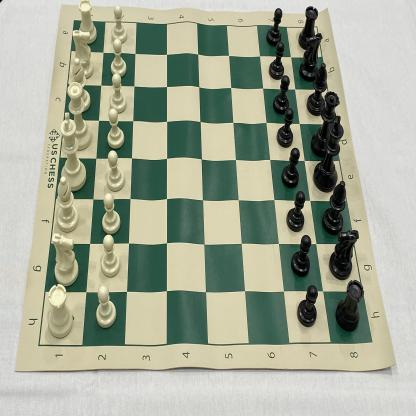black-bishop: (322, 181, 347, 234), (306, 63, 328, 116)
black-king: (313, 115, 346, 191)
black-pawn: (297, 281, 318, 329), (292, 233, 311, 277), (276, 104, 294, 149), (287, 187, 305, 231), (282, 145, 300, 187), (271, 74, 290, 113), (268, 41, 286, 79), (266, 8, 283, 47)
black-queen: (316, 90, 340, 150)
black-rook: (329, 226, 359, 281), (334, 279, 365, 332), (299, 32, 322, 79), (299, 5, 319, 50)
white-bishop: (54, 174, 79, 231), (69, 58, 91, 112)
white-king: (58, 112, 87, 191)
white-knight: (51, 230, 79, 286), (72, 29, 95, 78)
white-pawn: (96, 234, 121, 278), (92, 285, 117, 329), (102, 149, 125, 193), (97, 193, 121, 233), (102, 108, 125, 149), (107, 73, 127, 113), (107, 38, 127, 76), (107, 5, 127, 42)
white-queen: (65, 82, 92, 150)
white-rook: (46, 281, 74, 339), (76, 0, 97, 44)
